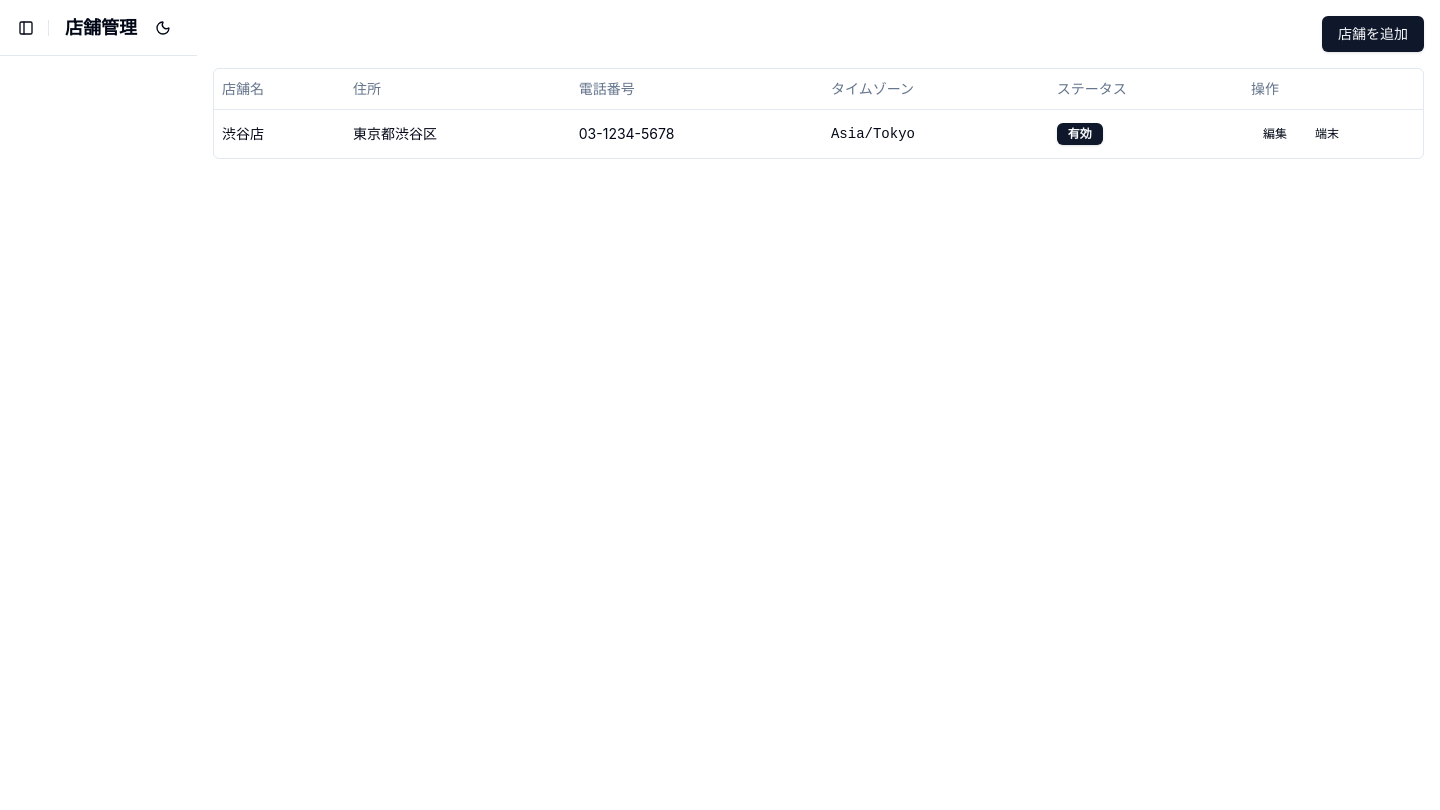
Test: StoresPage › 編集ボタンで編集ダイアログが開く
Check: the text "渋谷店" is shown, box 214,109 -> 345,158
Step 1. Click the button "編集" → (1275, 134), box 1251,118 -> 1299,150
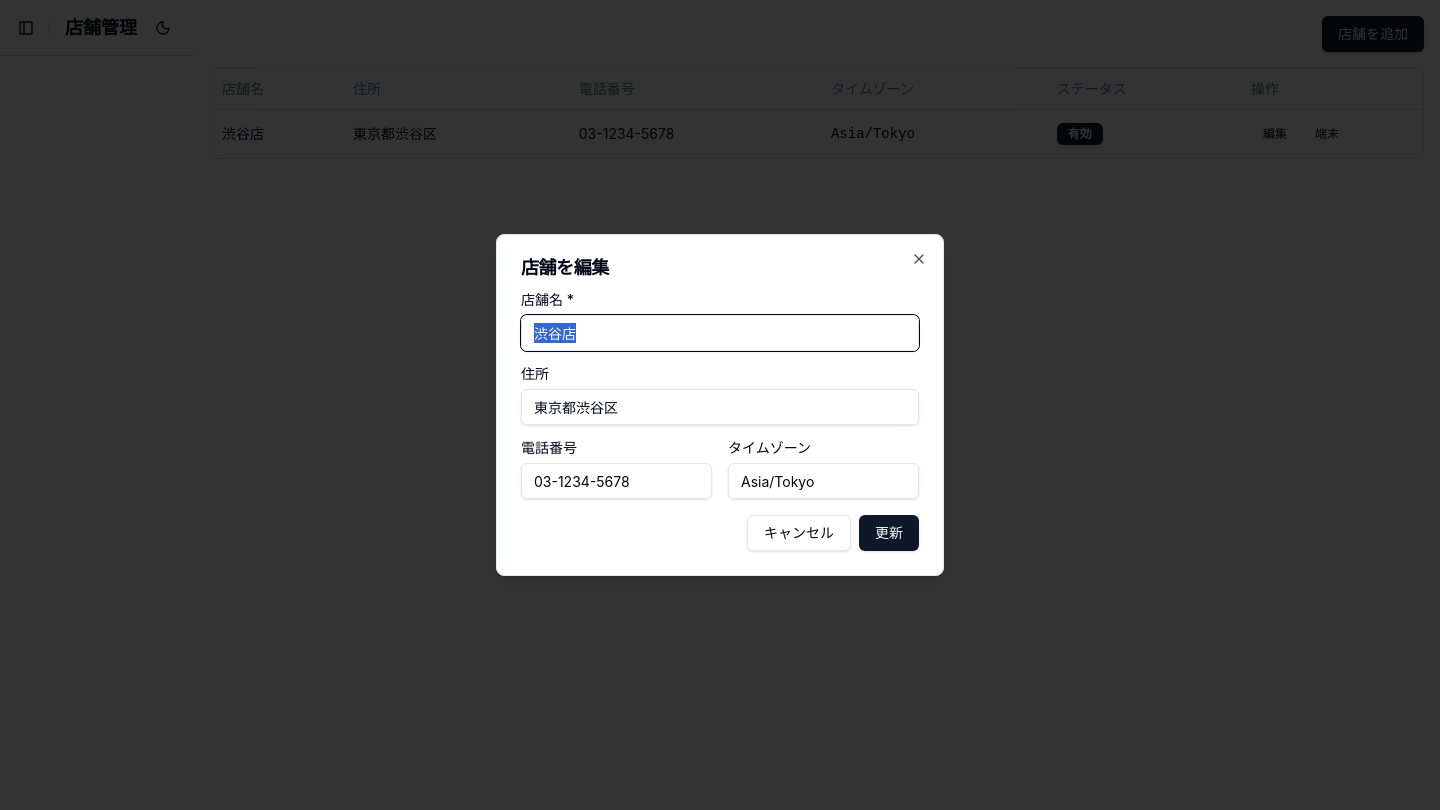
Check: the heading "店舗を編集" is shown, box 521,257 -> 609,278
Check: the field showing "渋谷店" is shown, box 521,315 -> 919,351
Check: the field showing "東京都渋谷区" is shown, box 521,389 -> 919,425
